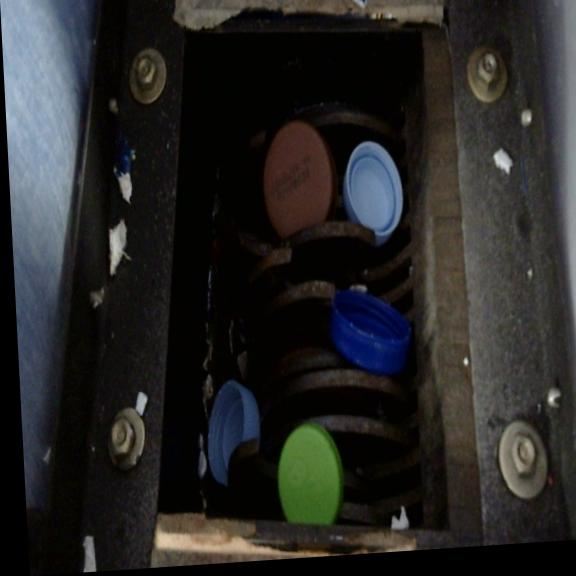Plastik: (263, 106, 337, 242), (277, 402, 347, 532), (344, 131, 419, 245), (203, 361, 274, 476)
